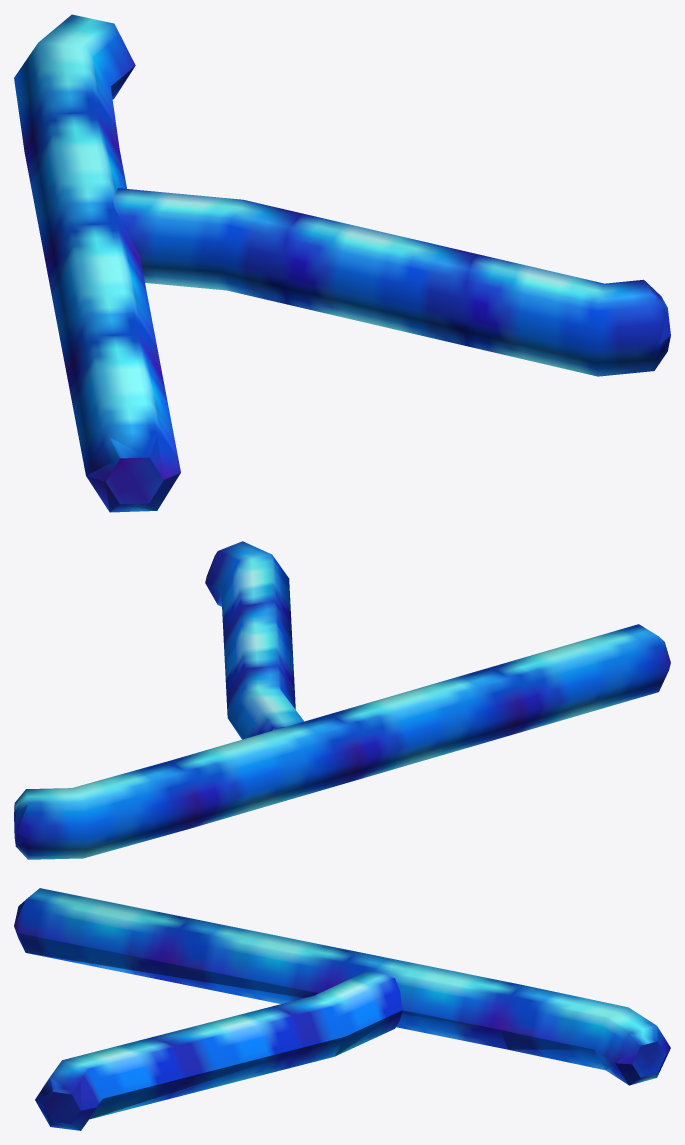
File: furni_0200472.FBX
3 views of the same model, one above another, from view 1: azimuth 30°, elevation 25°; view 2: azimuth 150°, elevation 25°; view 3: azimuth 270°, elevation 25° (orthographic). The views are drawn at different scales.
Parts seen in each view (by area): view 1: furni_0200472; view 2: furni_0200472; view 3: furni_0200472.
Part boxes in pixels (x1=…): furni_0200472: x1=14, y1=14, x2=670, y2=512; furni_0200472: x1=14, y1=541, x2=670, y2=859; furni_0200472: x1=14, y1=888, x2=670, y2=1130.
Size of the model in its own units: 42.63 by 5.11 by 58.35.
Materials: 1 (1 with a texture image).
